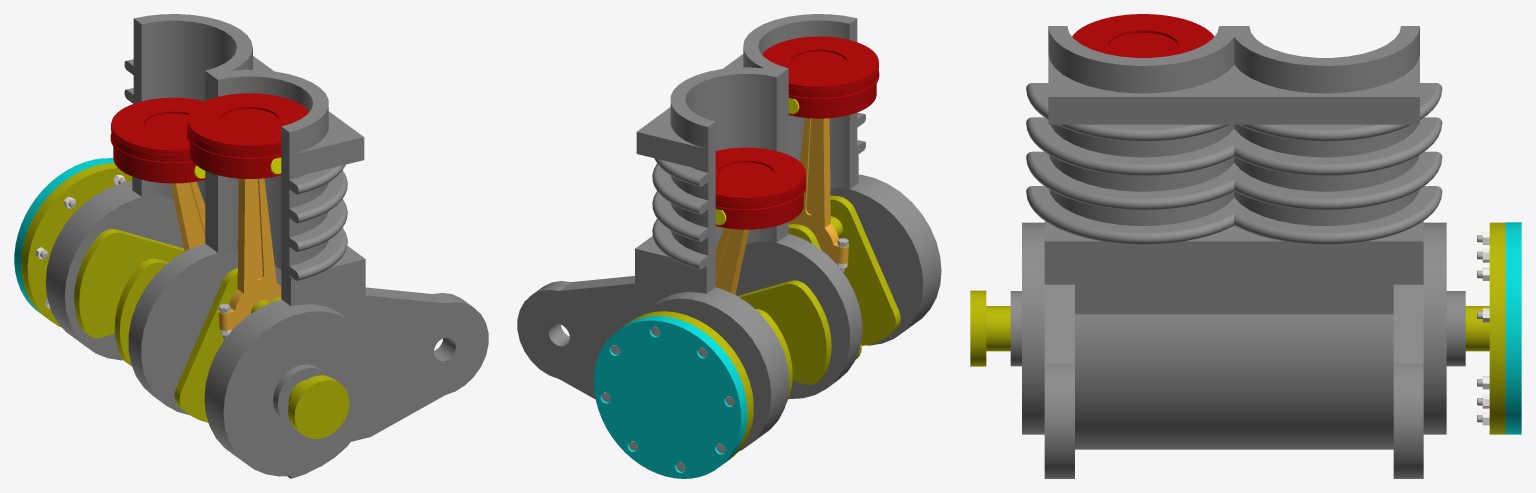
The model's file is main_assembly-ii.gltf.
3 views of the same model, side by side, from view 1: azimuth 30°, elevation 25°; view 2: azimuth 150°, elevation 25°; view 3: azimuth 270°, elevation 25° (orthographic). The views are drawn at different scales.
Parts seen in each view (by area): view 1: Engine Body-1, Shaft-1, Piston-3, Piston-2, Rod Arm-3, Rod Arm-2, Cover Plate-1; view 2: Engine Body-1, Cover Plate-1, Shaft-1, Piston-3, Piston-2, Rod Arm-3, Rod Arm-2; view 3: Engine Body-1, Shaft-1, Piston-3, Cover Plate-1.
Part boxes in pixels (x1,y1,x2,y2): Engine Body-1: [45, 14, 488, 478]; Shaft-1: [21, 163, 349, 438]; Piston-3: [187, 93, 308, 178]; Piston-2: [110, 97, 205, 183]; Rod Arm-3: [218, 178, 281, 322]; Rod Arm-2: [170, 181, 205, 251]; Cover Plate-1: [14, 158, 114, 314]; Engine Body-1: [517, 14, 941, 451]; Cover Plate-1: [593, 316, 747, 478]; Shaft-1: [626, 195, 900, 461]; Piston-3: [762, 36, 879, 118]; Piston-2: [715, 147, 806, 229]; Rod Arm-3: [788, 118, 848, 255]; Rod Arm-2: [715, 228, 748, 294]; Engine Body-1: [1010, 26, 1465, 478]; Shaft-1: [970, 222, 1505, 434]; Piston-3: [1072, 14, 1214, 57]; Cover Plate-1: [1505, 222, 1521, 434].
Size of the model in its own units: 0.4994 by 0.6004 by 0.727.
